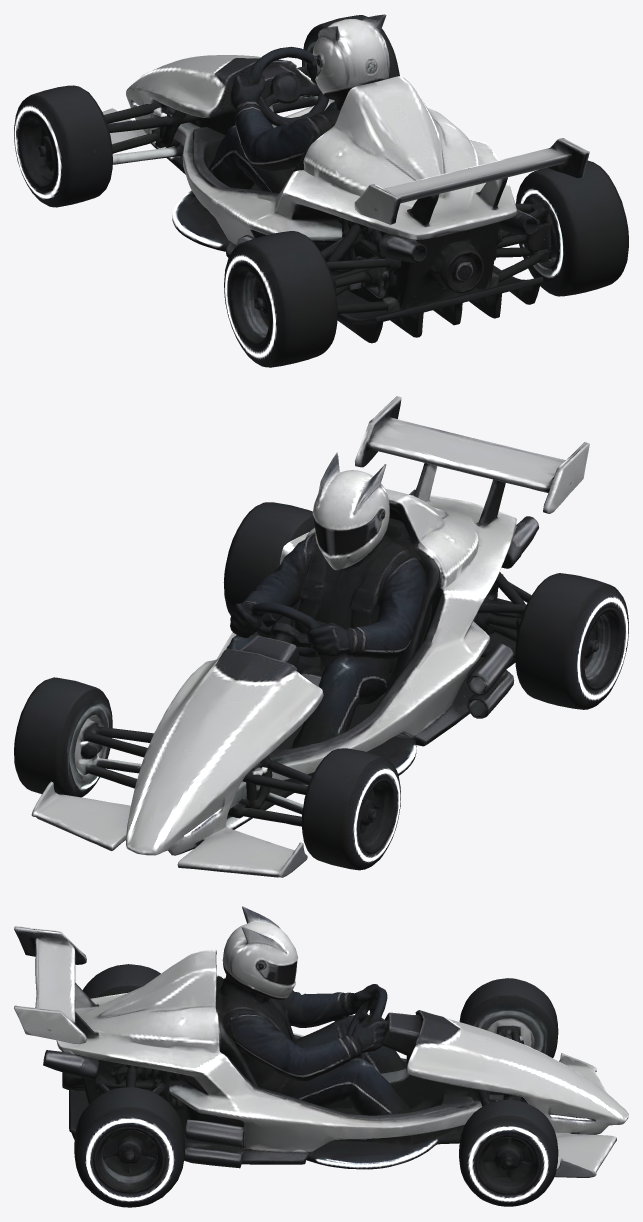
The model's file is vector-final.glb.
3 renders of one model, top to bottom at view 1: azimuth 30°, elevation 25°; view 2: azimuth 150°, elevation 25°; view 3: azimuth 270°, elevation 25°, orthographic. The views are drawn at different scales.
Parts seen in each view (by area): view 1: chassis, wheel-rl, wheel-rr, wheel-fl, wheel-fr; view 2: chassis, wheel-rl, wheel-fl, wheel-fr, wheel-rr; view 3: chassis, wheel-rr, wheel-fr, wheel-fl, wheel-rl.
Boxes of the visible parts, x1,y1,x2,y2 form: chassis: (102,14,589,343); wheel-rl: (224,231,337,367); wheel-rr: (516,160,628,296); wheel-fl: (14,85,112,207); wheel-fr: (302,15,399,106); chassis: (31,396,589,877); wheel-rl: (515,573,628,709); wheel-fl: (301,748,400,870); wheel-fr: (14,677,112,797); wheel-rr: (223,502,314,615); chassis: (14,906,628,1177); wheel-rr: (74,1087,185,1207); wheel-fr: (459,1099,558,1206); wheel-fl: (459,978,558,1057); wheel-rl: (82,964,160,998).
Size of the model in its own units: 2.59 by 1.79 by 4.5.
1 material, 1 textured.
